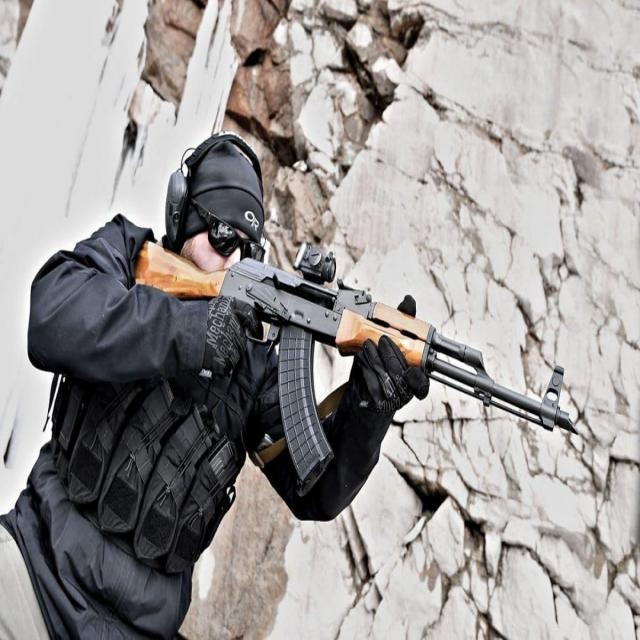gun: (132, 242, 576, 489)
